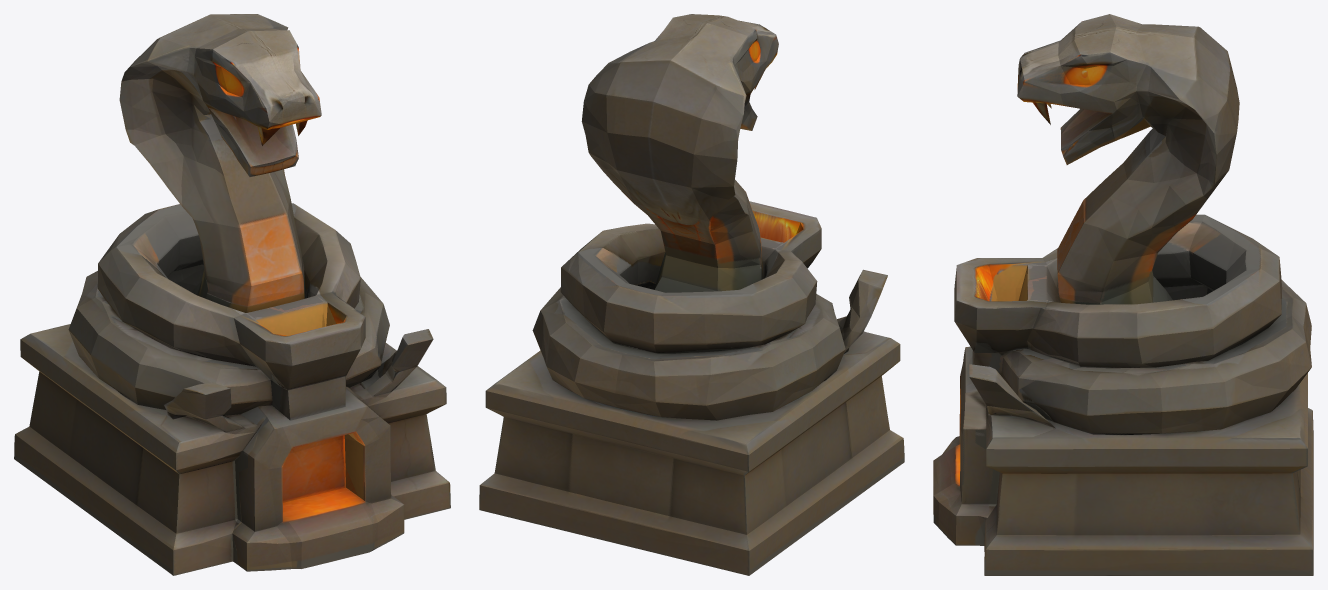
Rendered from Serpent_Guardian_0620191309_texture.fbx.
3 renders of one model, left to right at view 1: azimuth 30°, elevation 25°; view 2: azimuth 150°, elevation 25°; view 3: azimuth 270°, elevation 25°, orthographic. The views are drawn at different scales.
Parts seen in each view (by area): view 1: temp; view 2: temp; view 3: temp.
Boxes of the visible parts, box(x1,y1,x2,y2) form: temp: box(14, 14, 450, 575); temp: box(479, 14, 904, 575); temp: box(933, 14, 1313, 575).
Size of the model in its own units: 125 by 200 by 144.
1 material, 1 textured.
